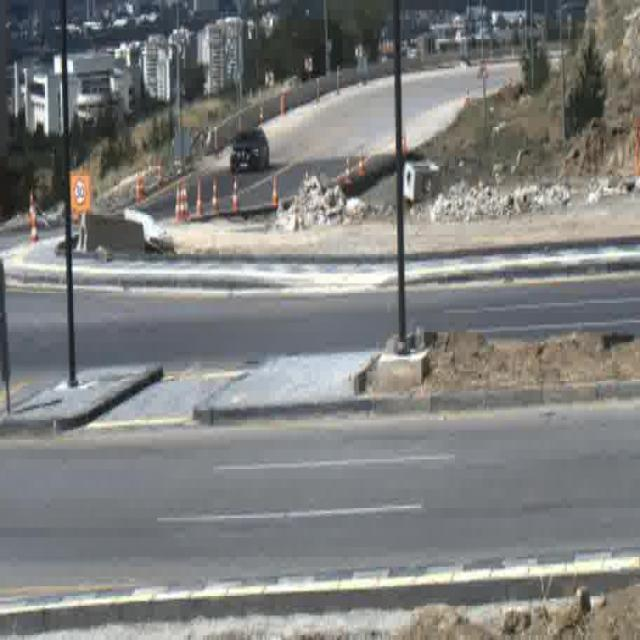Car: (231, 128, 271, 176)
